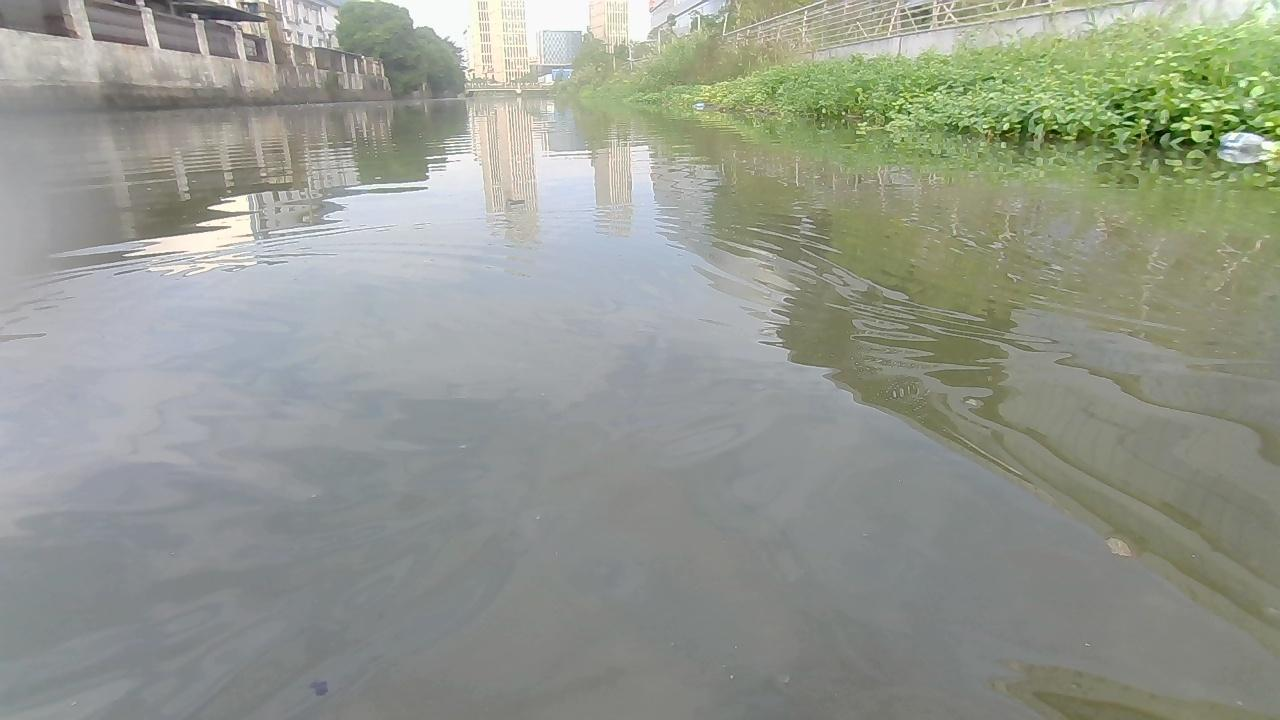bottle: (1220, 131, 1271, 159), (691, 99, 705, 111)
